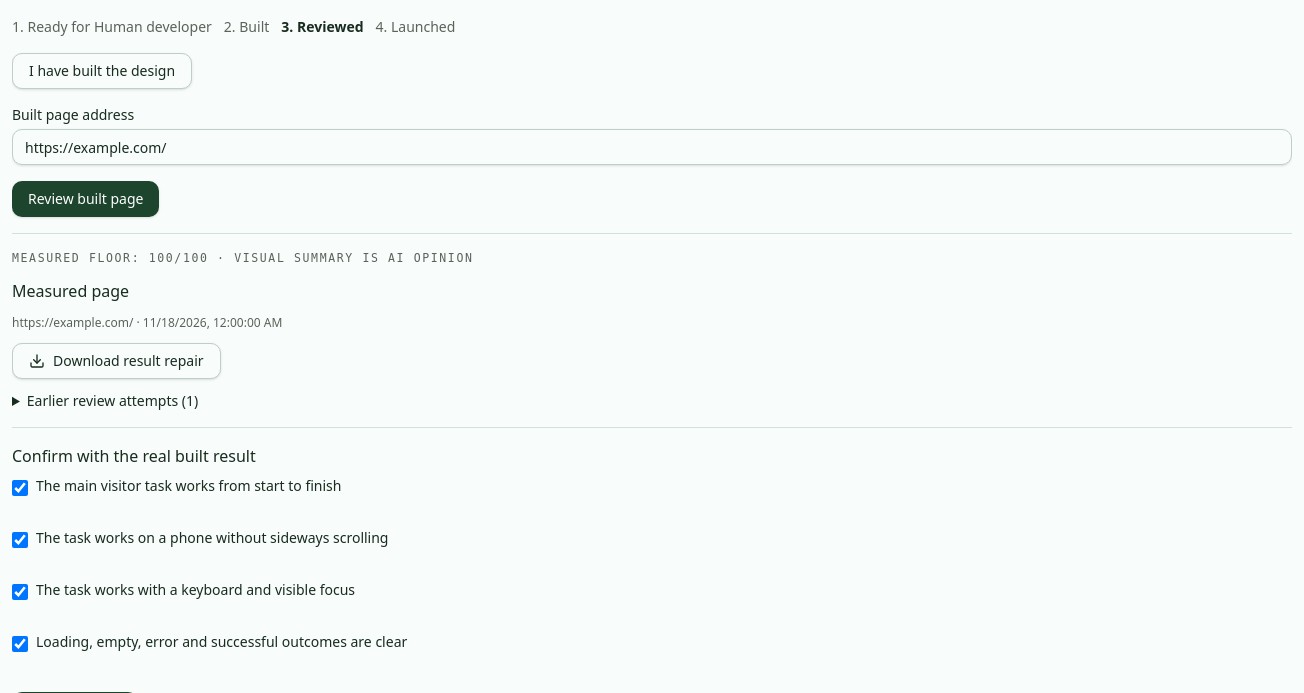
Test: launch readiness explanations › preserves advisory findings as visible possibilities instead of silently passing or blocking them
Click the button "Review built page". click: (86, 199)
box: [12,181,160,217]
(page scrolled)
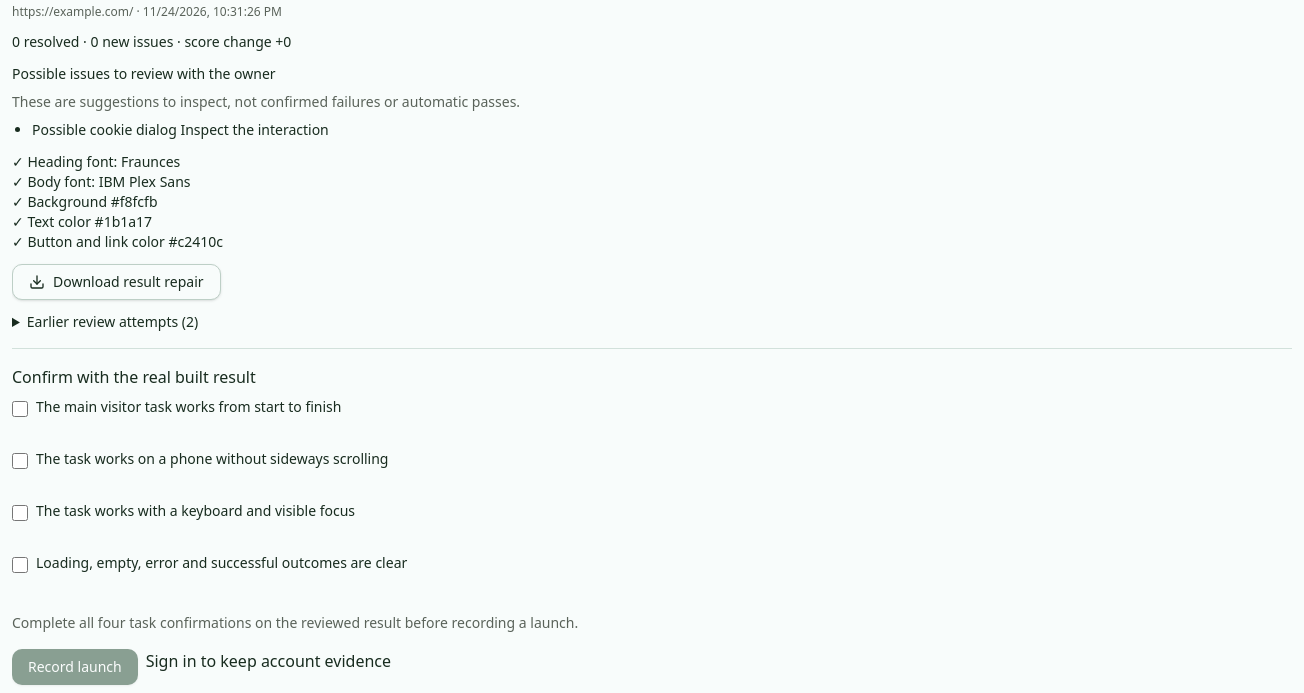
Expected: the text "Possible issues to review with the owner" is shown, [12,64,276,83]
Expected: the list item "Possible cookie dialog Inspect the interaction" is shown, [32,120,329,139]
Click the checkbox labelled "The main visitor task works from start to finish". click: (20, 409)
box: [12,401,28,417]
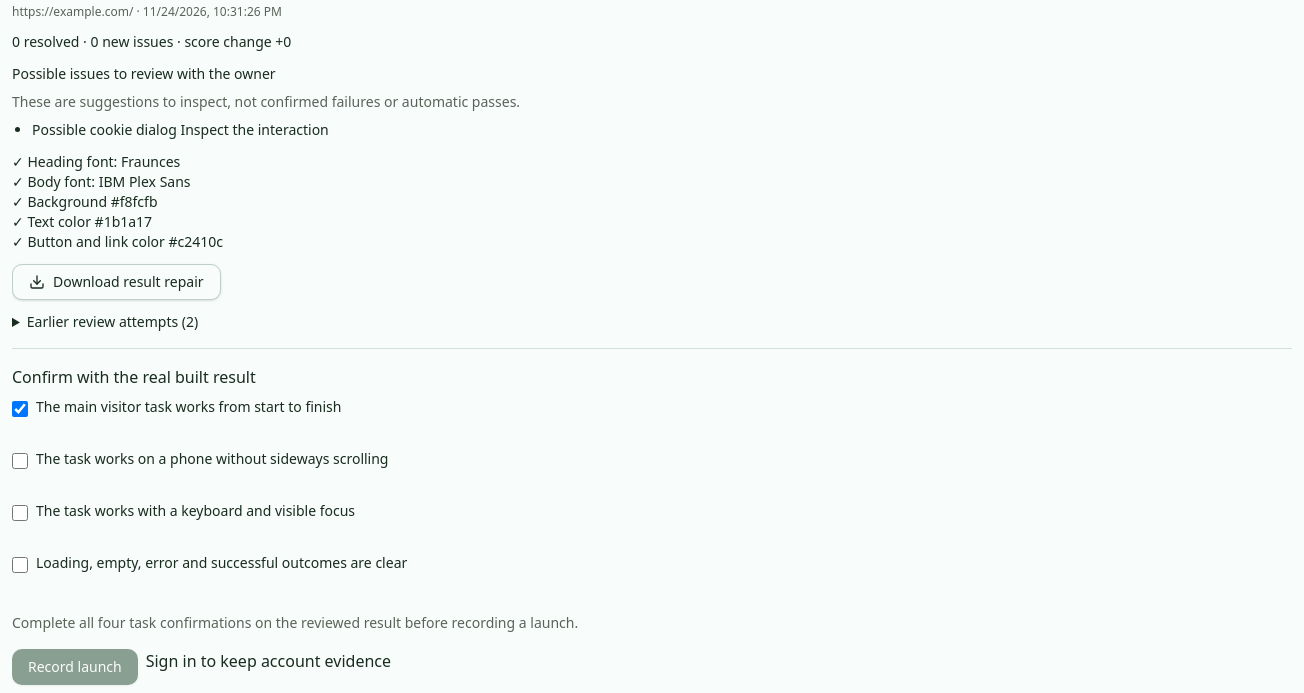
Click the checkbox labelled "The task works on a phone without sideways scrolling". click: (20, 461)
box: [12,453,28,469]
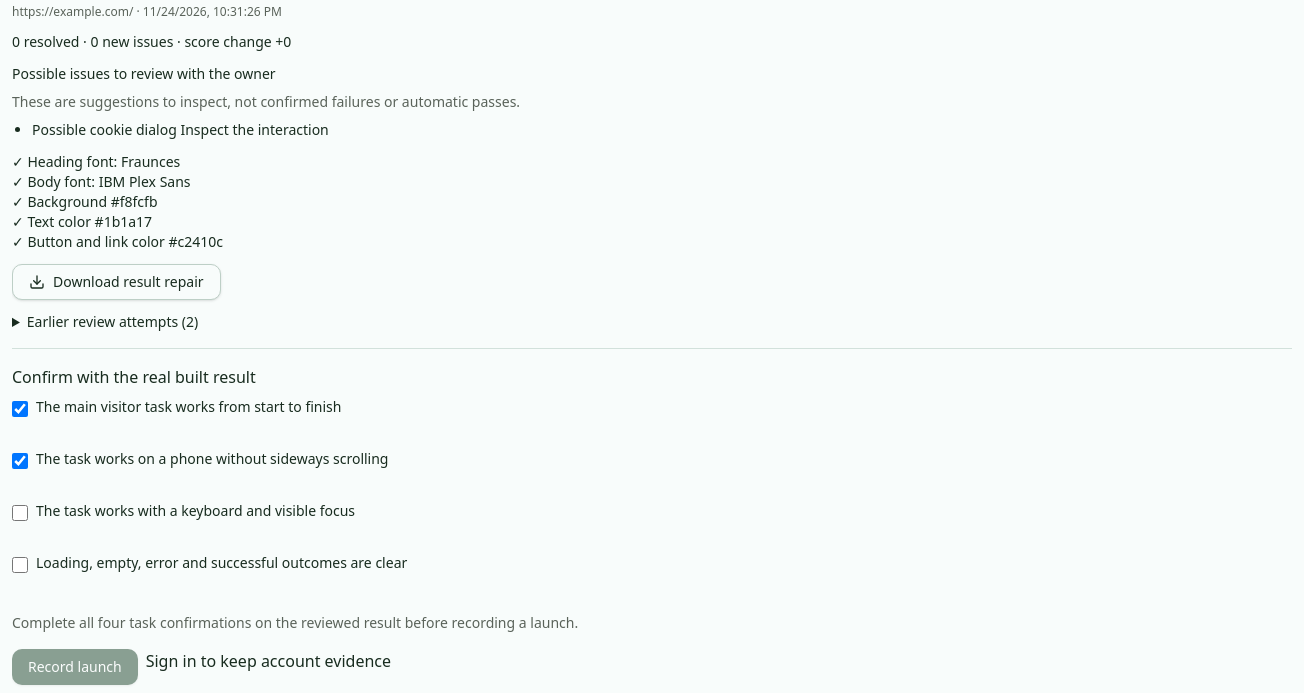
Click the checkbox labelled "The task works with a keyboard and visible focus". click: (20, 513)
box: [12,505,28,521]
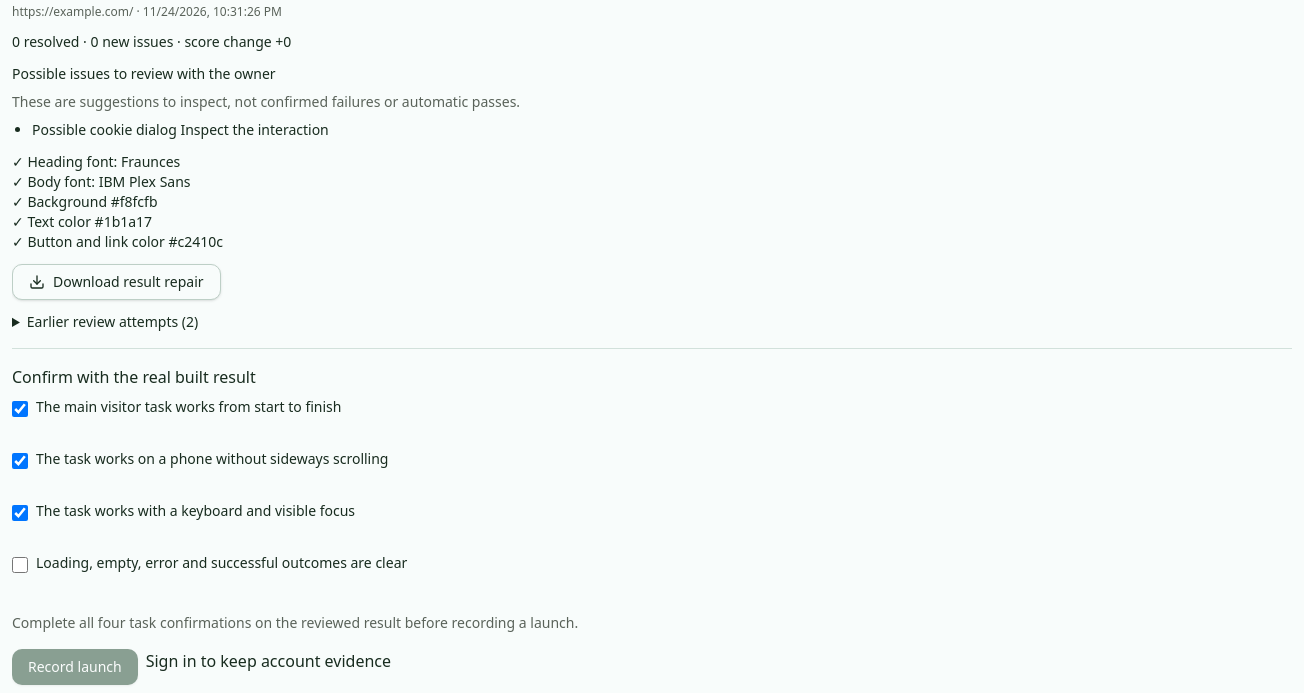
Click the checkbox labelled "Loading, empty, error and successful outcomes are clear". click: (20, 565)
box: [12,557,28,573]
(page scrolled)
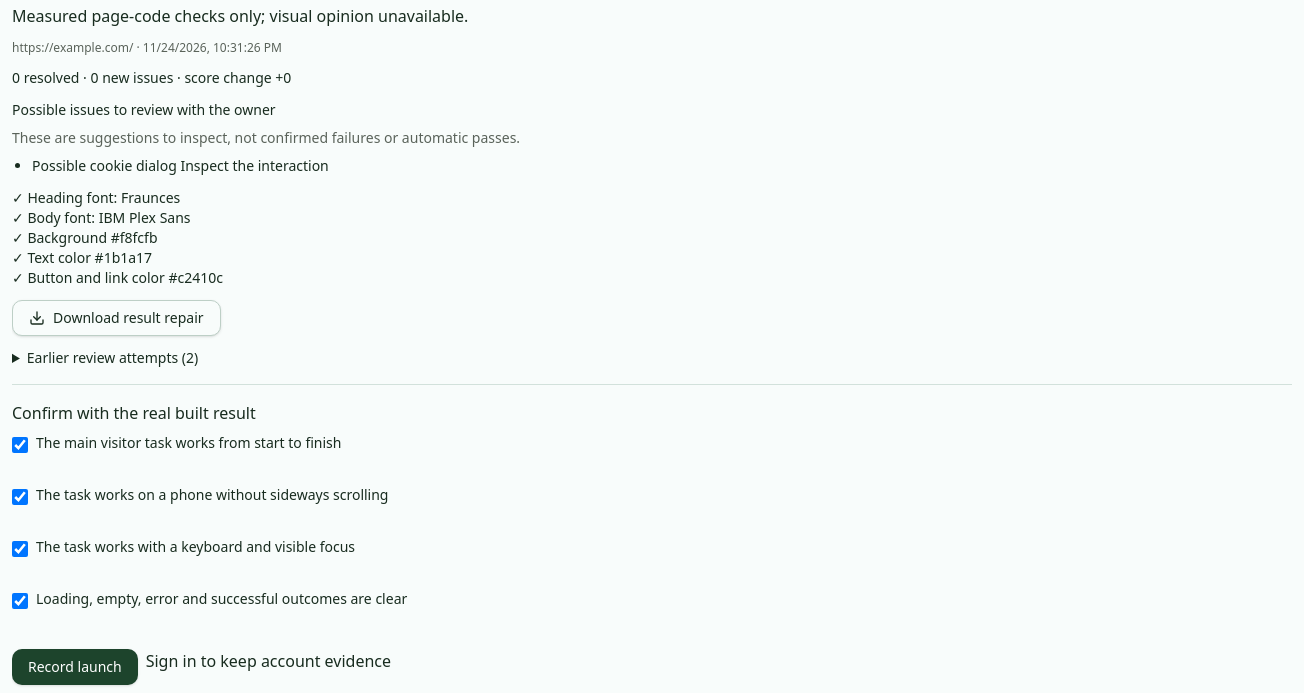
Expected: the button "Record launch" is enabled, [12,649,138,685]
